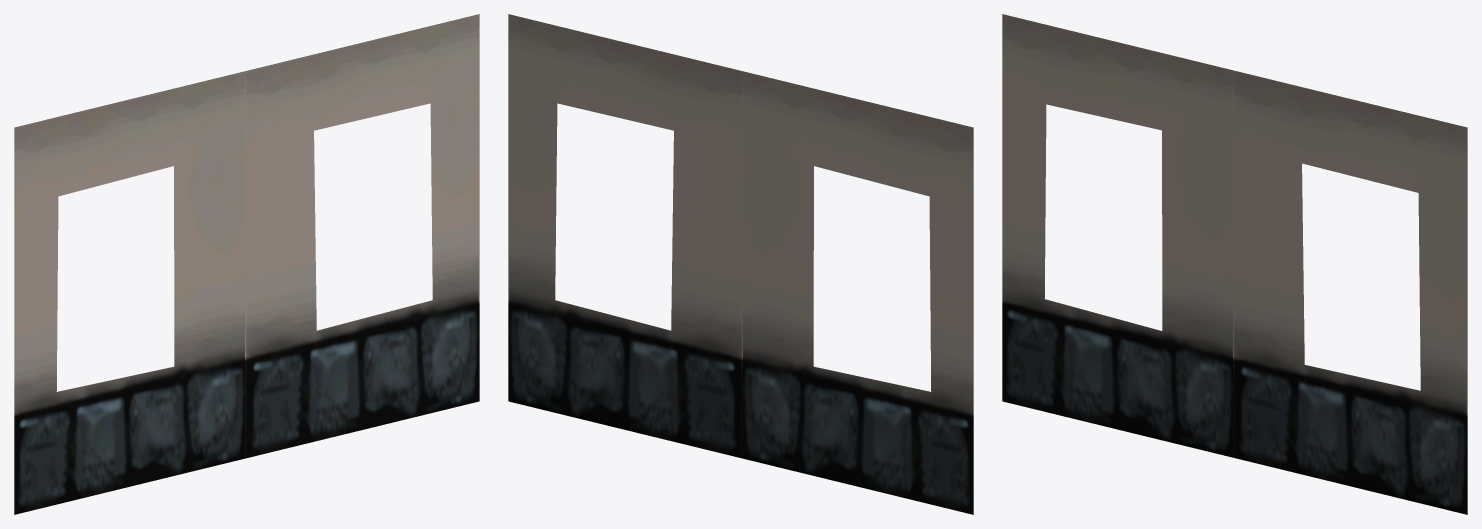
The model's file is W_AI1_ff [Grau2]_595.glb.
The picture shows the model from 3 angles, left to right: view 1: azimuth 30°, elevation 25°; view 2: azimuth 150°, elevation 25°; view 3: azimuth 330°, elevation 25°; orthographic projection.
Parts seen in each view (by area): view 1: pPlaneShape1; view 2: pPlaneShape1; view 3: pPlaneShape1.
Boxes of the visible parts, x1,y1,x2,y2 form: pPlaneShape1: (14,14,479,514); pPlaneShape1: (508,14,973,514); pPlaneShape1: (1002,14,1467,514).
Size of the model in its own units: 0.4385 by 0.3486 by 1.34e-07.
1 material, 1 textured.
